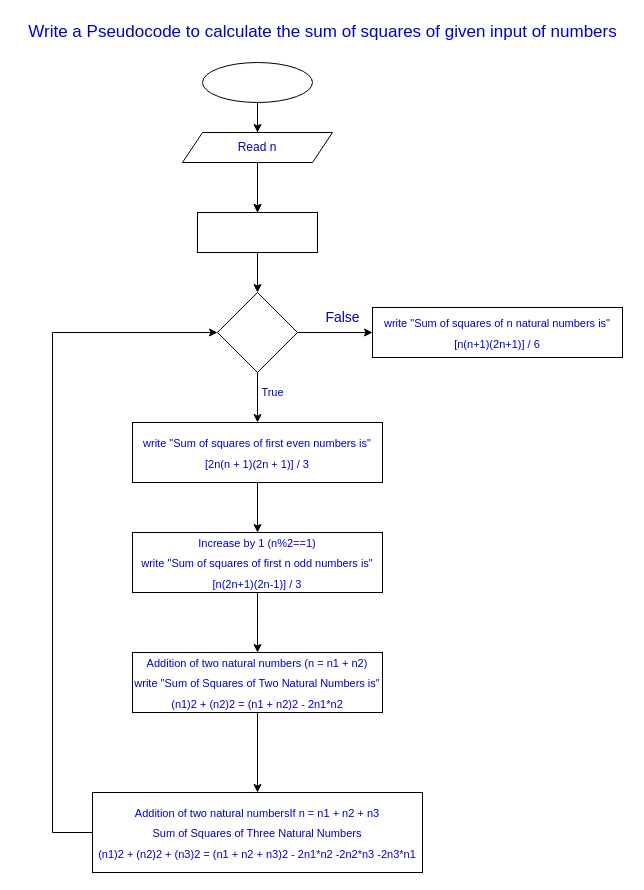
Some shapes in this 644 by 890 pixel diagram are drawn without their labels. Here are the shapes that lost their labels. From the top down, the centre of each, then its label:
(x=257, y=82): START
(x=257, y=232): For n = natural numbers
(x=257, y=332): If n%2==0
